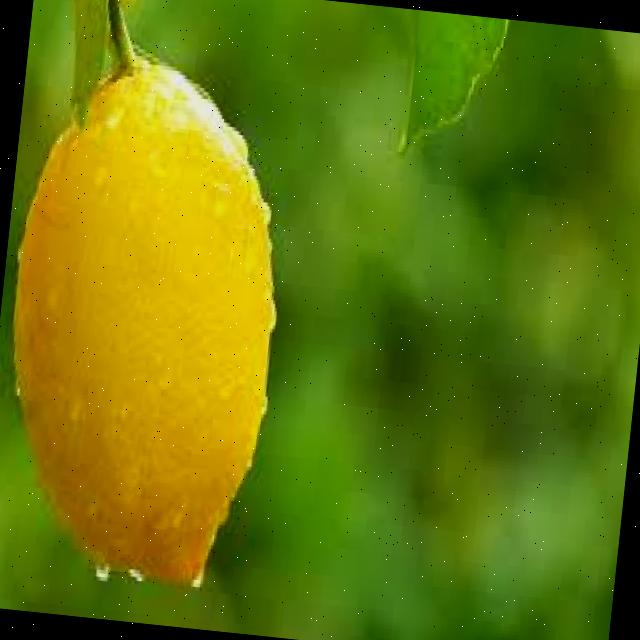Lemon: (0, 44, 301, 593)
